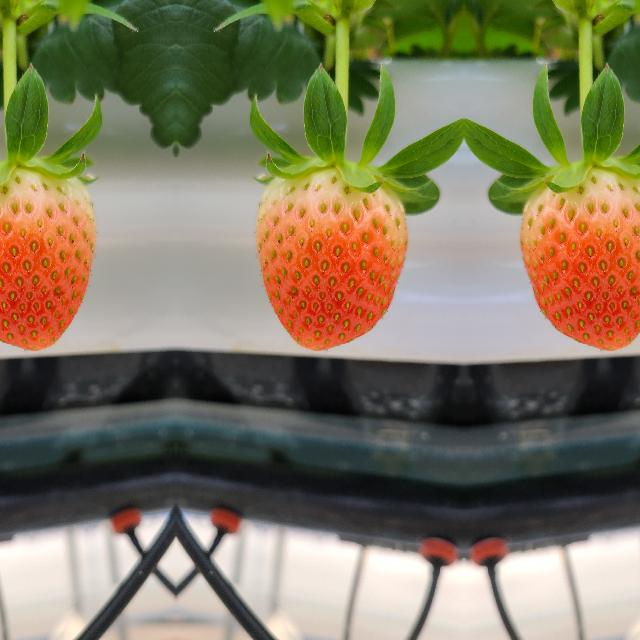Health_100: (252, 168, 408, 352), (518, 167, 640, 352), (0, 167, 97, 352)
